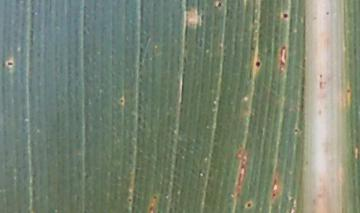tarspot: (279, 9, 294, 22), (4, 56, 17, 70), (243, 199, 255, 211), (254, 57, 264, 70), (214, 1, 226, 9)
